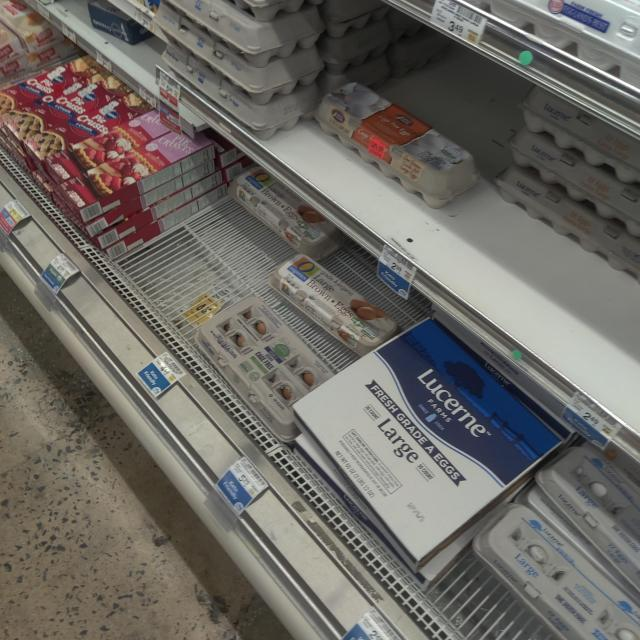Eggs: (483, 449, 639, 639), (310, 68, 469, 212), (193, 284, 313, 426), (261, 244, 409, 346)
